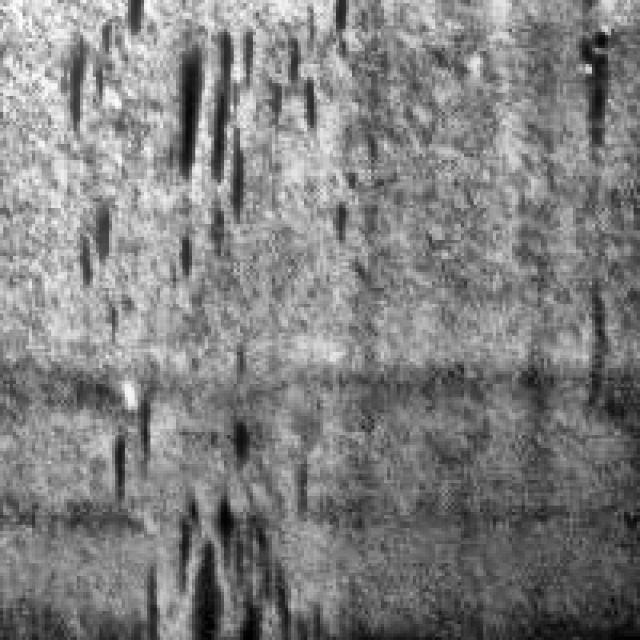Patches: (137, 464, 320, 634), (154, 16, 272, 224), (557, 13, 621, 164)
